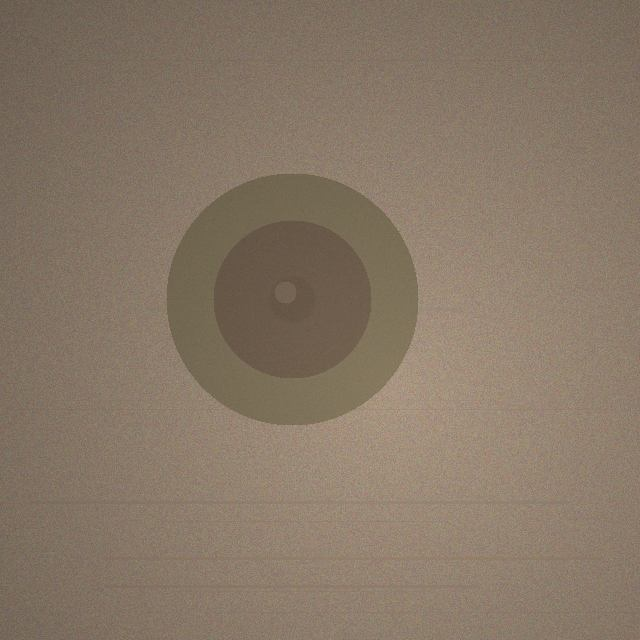good: (166, 173, 418, 425)
